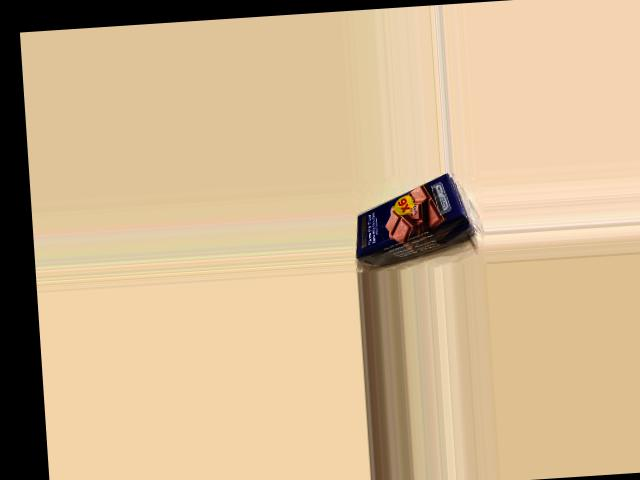chocolate: (351, 171, 468, 265)
